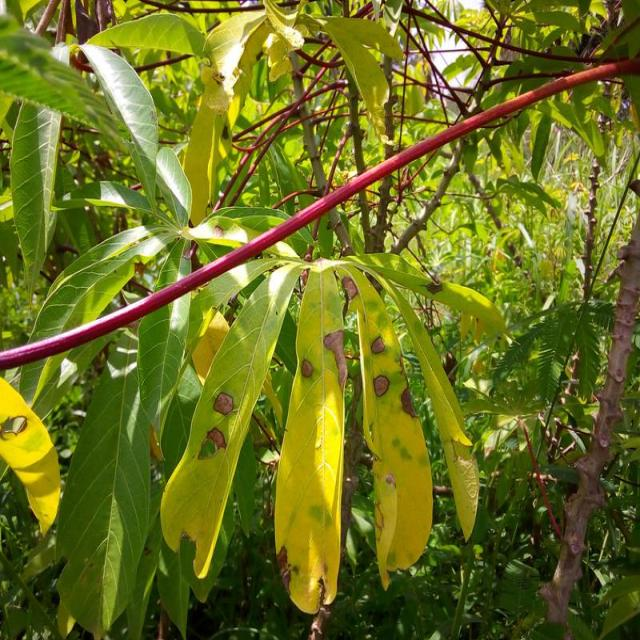cassava leaf: (158, 258, 302, 579), (340, 261, 434, 591), (55, 352, 152, 638), (273, 261, 346, 614)
